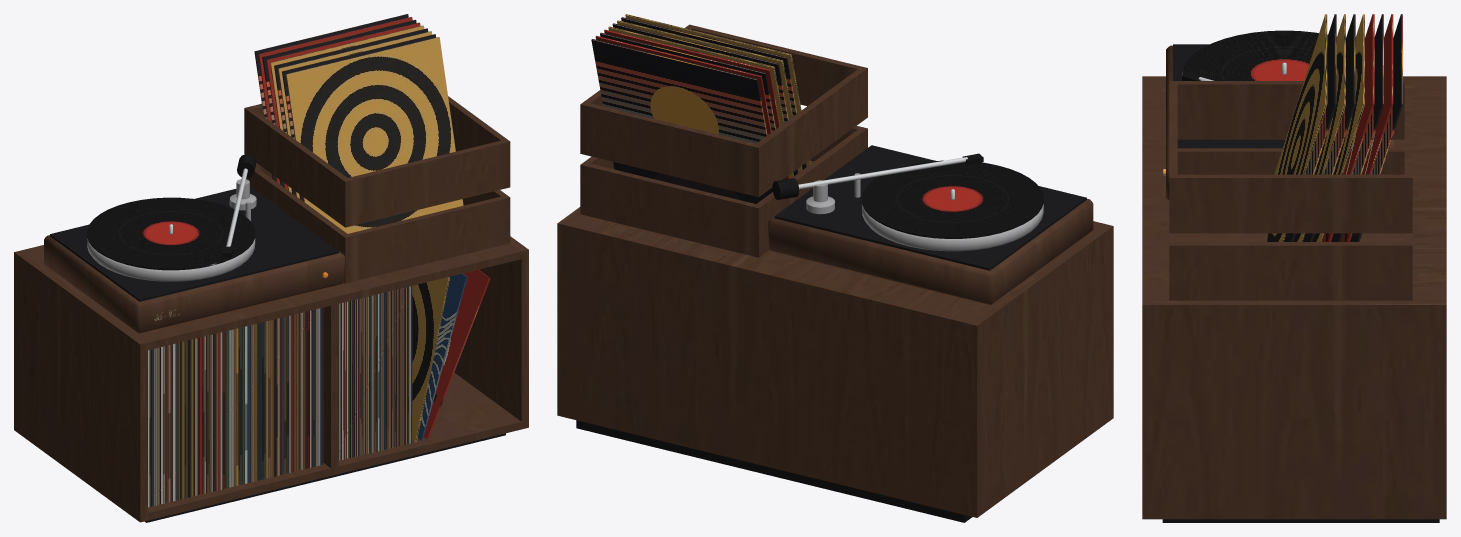
The model's file is vinyl-cabinet.glb.
The picture shows the model from 3 angles, left to right: view 1: azimuth 30°, elevation 25°; view 2: azimuth 150°, elevation 25°; view 3: azimuth 270°, elevation 25°; orthographic projection. The views are drawn at different scales.
Visible parts, largest first — view 1: vinyl_N31; view 2: vinyl_N31; view 3: vinyl_N31.
Boxes of the visible parts, x1,y1,x2,y2 form: vinyl_N31: (14,14,528,522); vinyl_N31: (557,14,1113,522); vinyl_N31: (1142,14,1446,522).
Bounding box in the file's own units: 0.8 × 0.6852 × 0.45.
2 materials, 2 textured.
